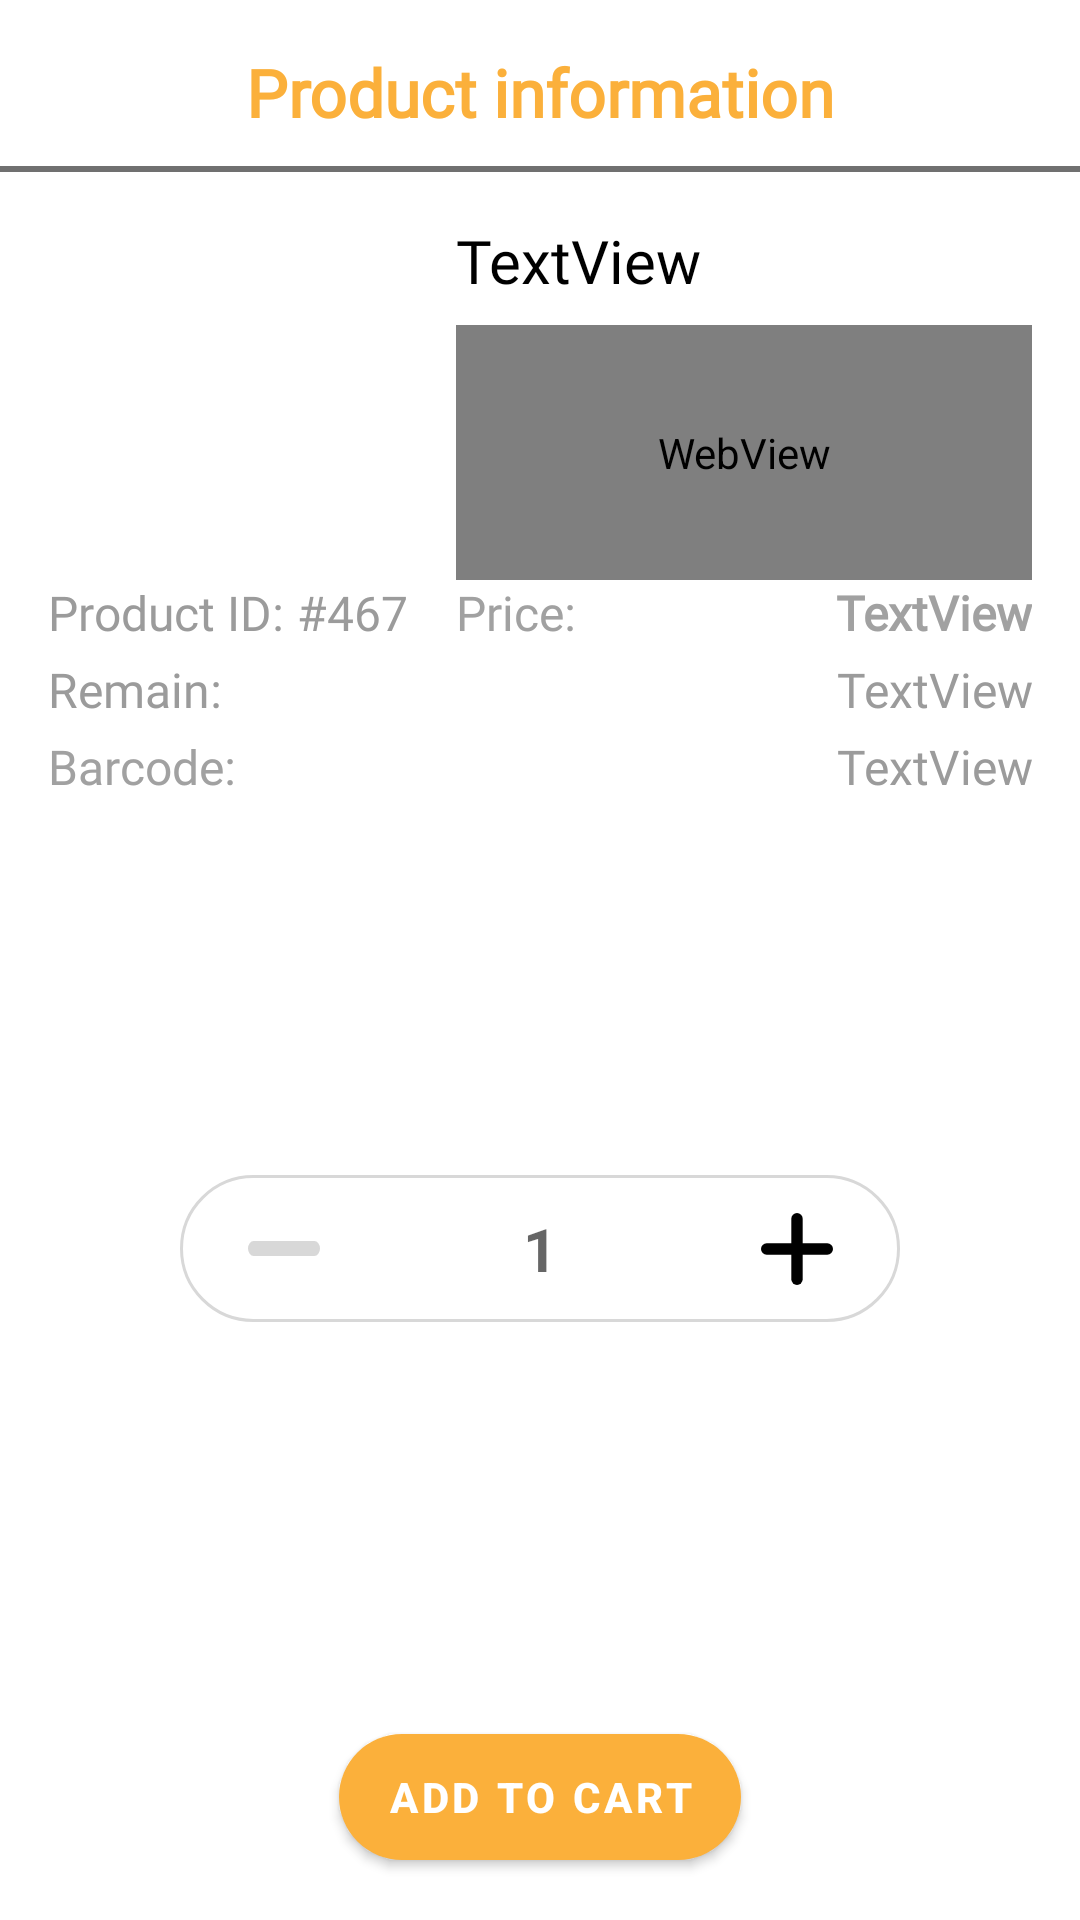

Icon bounding boxes for this 1080×1920 phone screenshot, format (x1, y1, x2, y2):
add count: (761, 1213, 833, 1285)
